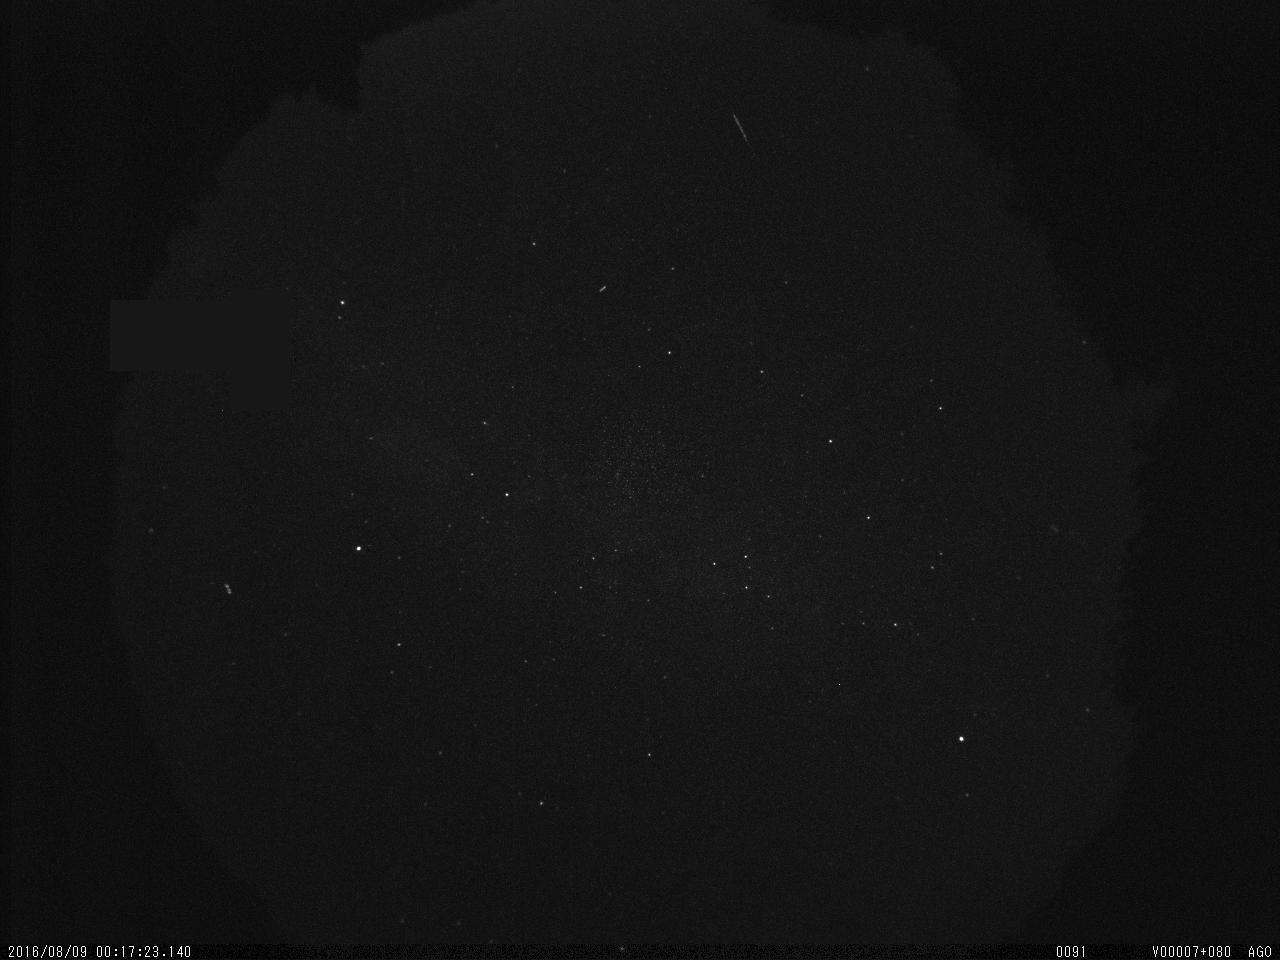meteor: (721, 113, 757, 147)
